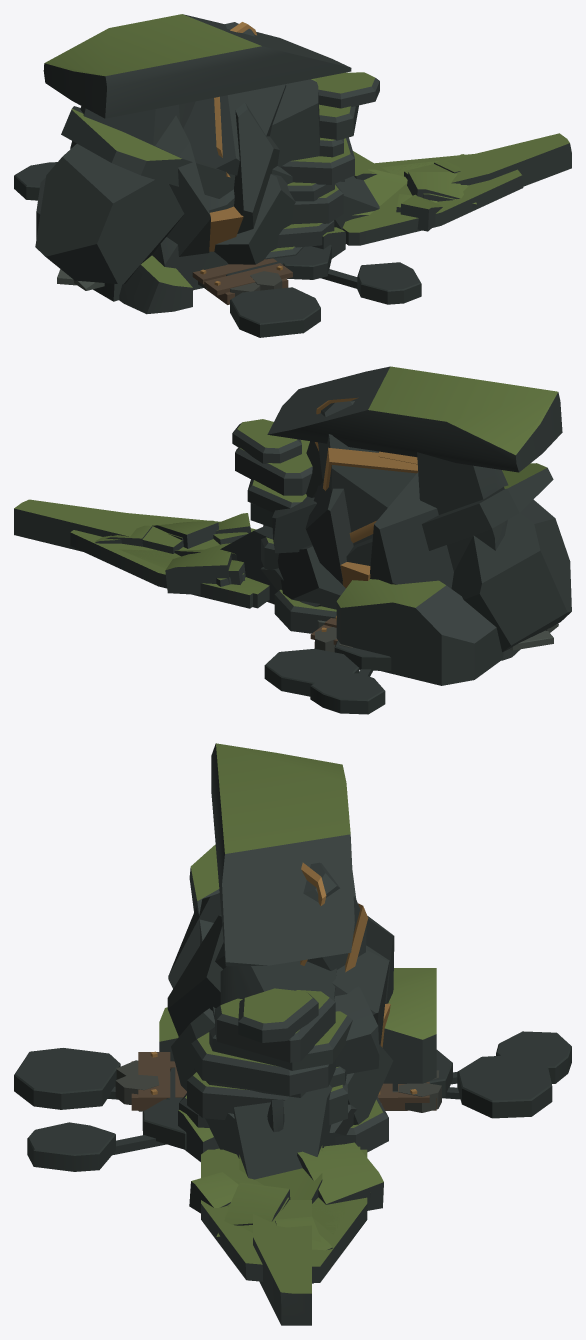
Rendered from Windrift_Rocks.fbx.
The picture shows the model from 3 angles, top to bottom: view 1: azimuth 30°, elevation 25°; view 2: azimuth 150°, elevation 25°; view 3: azimuth 270°, elevation 25°; orthographic projection. The views are drawn at different scales.
Parts seen in each view (by area): view 1: Windrift_Rocks_Windgate__Slate, Windrift_Rocks_SlateSlab__Slate, Windrift_Rocks_Windgate__Moss, Windrift_Rocks_CragTail__Slate, Windrift_Rocks_VeinBoulderA__Slate, Windrift_Rocks_VeinBoulderB__Slate, Windrift_Rocks_StrataStack__Slate, Windrift_Rocks_StepsB__SlateStep, Windrift_Rocks_CragTail__Moss, Windrift_Rocks_StepsA__SlateStep, Windrift_Rocks_SlateSlab__Moss, Windrift_Rocks_StrataStack__Moss (+5 smaller); view 2: Windrift_Rocks_Windgate__Slate, Windrift_Rocks_SlateSlab__Slate, Windrift_Rocks_CragTail__Slate, Windrift_Rocks_Windgate__Moss, Windrift_Rocks_VeinBoulderA__Slate, Windrift_Rocks_VeinBoulderB__Slate, Windrift_Rocks_StrataStack__Slate, Windrift_Rocks_CragTail__Moss, Windrift_Rocks_StepsB__SlateStep, Windrift_Rocks_StepsA__SlateStep, Windrift_Rocks_VeinBoulderA__Bronze, Windrift_Rocks_StrataStack__Moss (+4 smaller); view 3: Windrift_Rocks_Windgate__Slate, Windrift_Rocks_Windgate__Moss, Windrift_Rocks_StrataStack__Slate, Windrift_Rocks_CragTail__Slate, Windrift_Rocks_StepsA__SlateStep, Windrift_Rocks_VeinBoulderB__Slate, Windrift_Rocks_CragTail__Moss, Windrift_Rocks_StepsB__SlateStep, Windrift_Rocks_VeinBoulderA__Slate, Windrift_Rocks_StrataStack__Moss, Windrift_Rocks_PlankWalk__Plank, Windrift_Rocks_SlateSlab__Moss (+2 smaller).
Part boxes in pixels (box(x1,y1,x2,y2)): Windrift_Rocks_Windgate__Slate: box(43, 14, 523, 301); Windrift_Rocks_SlateSlab__Slate: box(35, 106, 476, 284); Windrift_Rocks_Windgate__Moss: box(44, 14, 521, 232); Windrift_Rocks_CragTail__Slate: box(36, 143, 571, 314); Windrift_Rocks_VeinBoulderA__Slate: box(183, 22, 295, 264); Windrift_Rocks_VeinBoulderB__Slate: box(152, 102, 345, 256); Windrift_Rocks_StrataStack__Slate: box(265, 78, 379, 259); Windrift_Rocks_StepsB__SlateStep: box(14, 162, 421, 304); Windrift_Rocks_CragTail__Moss: box(141, 133, 569, 287); Windrift_Rocks_StepsA__SlateStep: box(226, 258, 320, 337); Windrift_Rocks_SlateSlab__Moss: box(71, 109, 476, 207); Windrift_Rocks_StrataStack__Moss: box(271, 72, 374, 251); Windrift_Rocks_Windgate__Slate: box(70, 366, 562, 660); Windrift_Rocks_SlateSlab__Slate: box(95, 468, 571, 652); Windrift_Rocks_CragTail__Slate: box(14, 508, 503, 685); Windrift_Rocks_Windgate__Moss: box(70, 366, 557, 594); Windrift_Rocks_VeinBoulderA__Slate: box(261, 401, 416, 609); Windrift_Rocks_VeinBoulderB__Slate: box(305, 472, 453, 588); Windrift_Rocks_StrataStack__Slate: box(216, 423, 336, 633); Windrift_Rocks_CragTail__Moss: box(14, 499, 445, 607); Windrift_Rocks_StepsB__SlateStep: box(310, 640, 391, 714); Windrift_Rocks_StepsA__SlateStep: box(264, 648, 359, 696); Windrift_Rocks_VeinBoulderA__Bronze: box(315, 397, 418, 542); Windrift_Rocks_StrataStack__Moss: box(217, 419, 336, 611); Windrift_Rocks_Windgate__Slate: box(189, 743, 383, 1282); Windrift_Rocks_Windgate__Moss: box(191, 743, 383, 1266); Windrift_Rocks_StrataStack__Slate: box(179, 993, 388, 1152); Windrift_Rocks_CragTail__Slate: box(159, 1007, 436, 1325); Windrift_Rocks_StepsA__SlateStep: box(14, 1048, 552, 1118); Windrift_Rocks_VeinBoulderB__Slate: box(167, 893, 394, 1154); Windrift_Rocks_CragTail__Moss: box(159, 968, 436, 1293); Windrift_Rocks_StepsB__SlateStep: box(27, 1031, 571, 1171); Windrift_Rocks_VeinBoulderA__Slate: box(171, 862, 393, 1136); Windrift_Rocks_StrataStack__Moss: box(185, 988, 382, 1127); Windrift_Rocks_PlankWalk__Plank: box(131, 1052, 436, 1110); Windrift_Rocks_SlateSlab__Moss: box(190, 844, 360, 1250).
Size of the model in its own units: 21.89 by 9.1 by 16.1.
